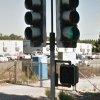traffic lights: (56, 0, 82, 48), (24, 0, 47, 48), (59, 62, 80, 88)
